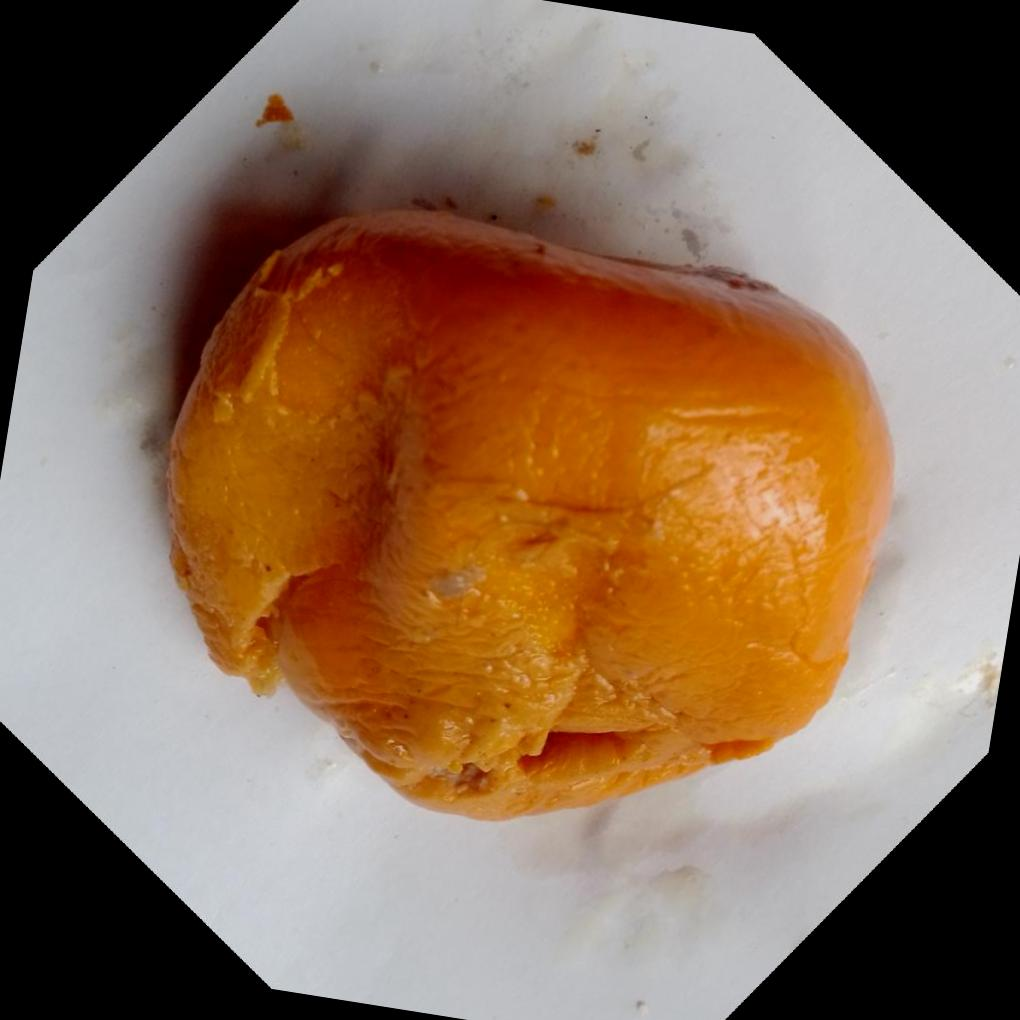FreshOrange: (159, 197, 900, 821)
